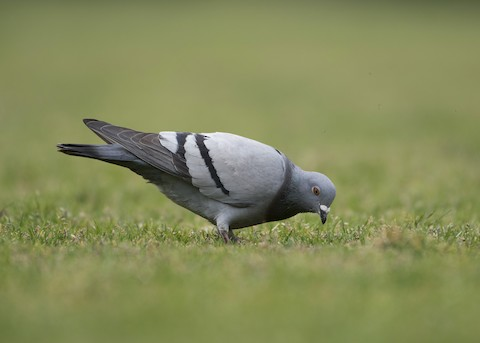pigeon: (57, 114, 340, 247)
